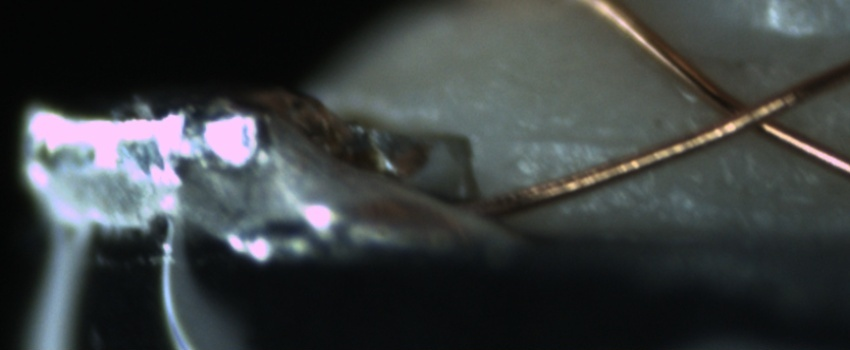CL: (691, 77, 800, 147)
DL: (502, 108, 645, 171)
